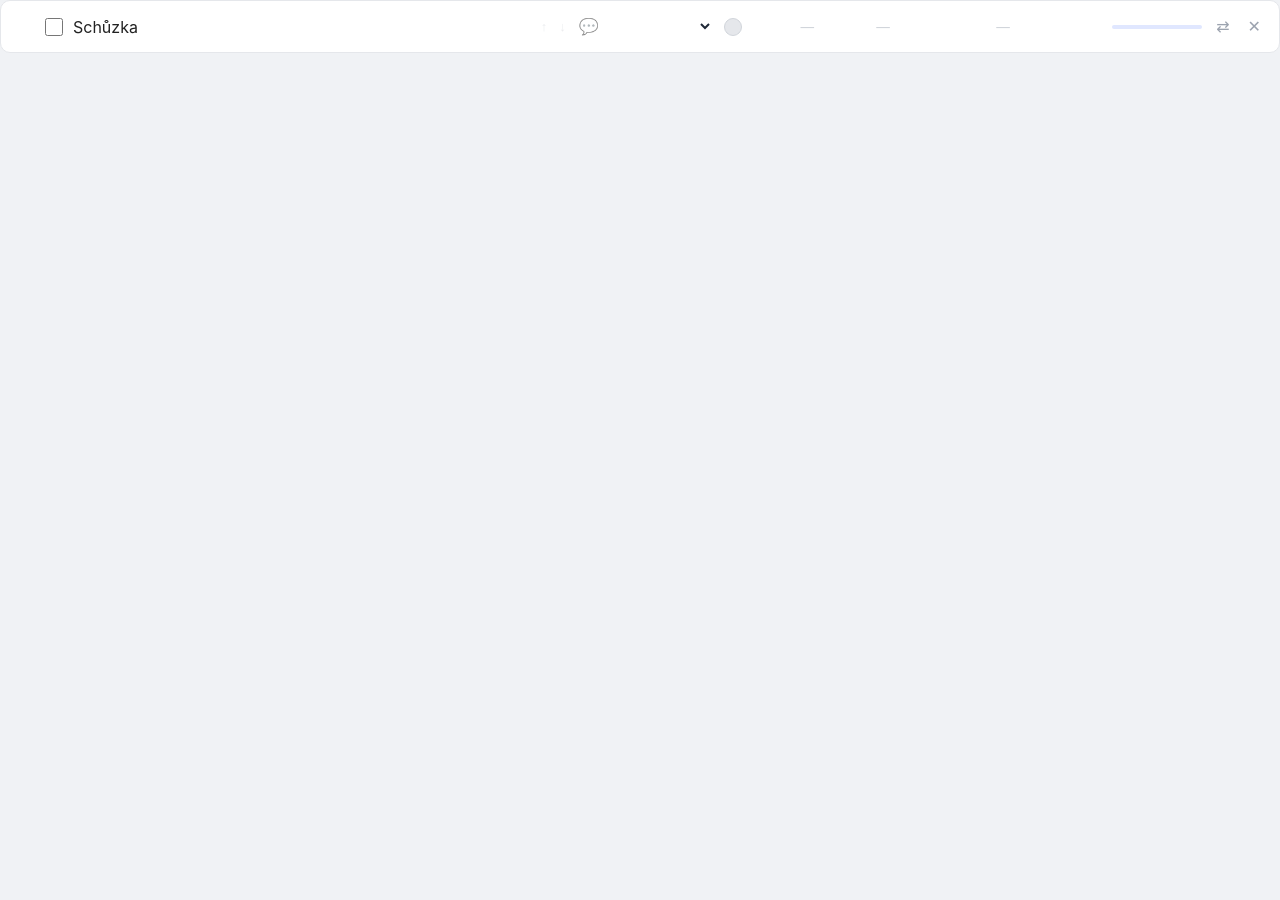
Test: TodoItem › Calendar event › opens a calendar modal after a non-empty date is set
Step 1. Click the element with class "due-badge--empty" → (1157, 26), box [1112,24,1202,28]
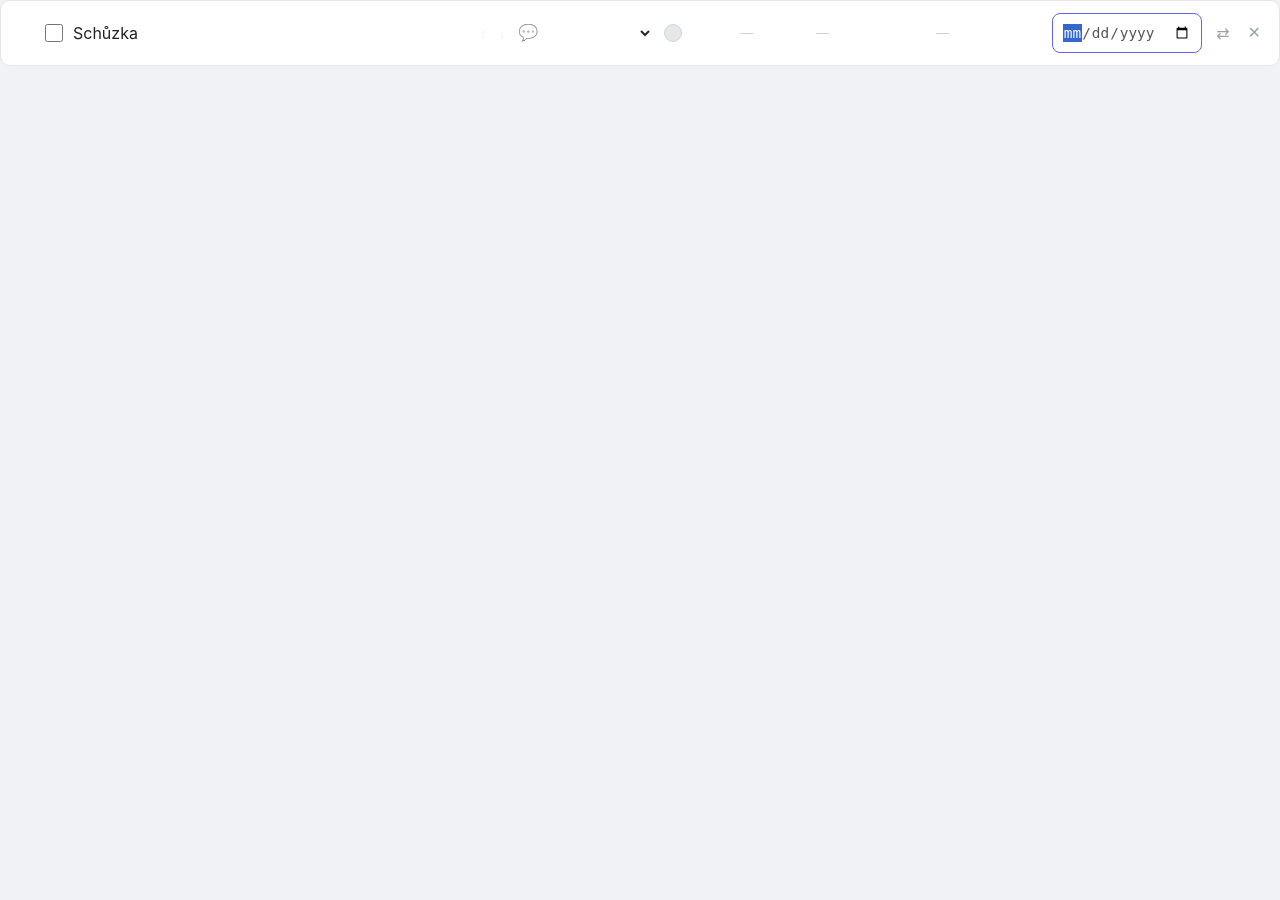
Step 2. Type "2026-06-01" into the date field → (1127, 33), box [1052,13,1202,53]
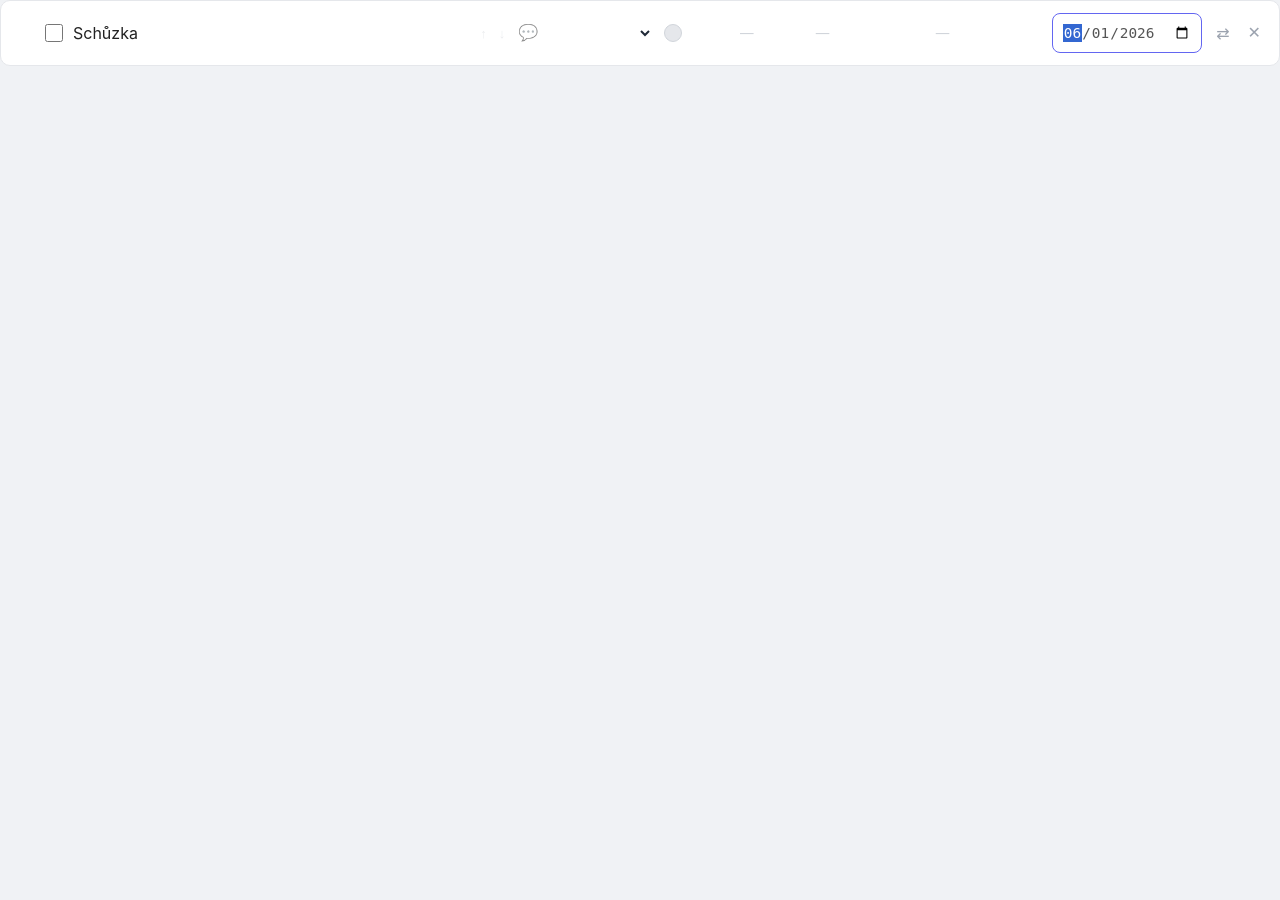
Step 3. Leave the date field, box [1052,13,1202,53]
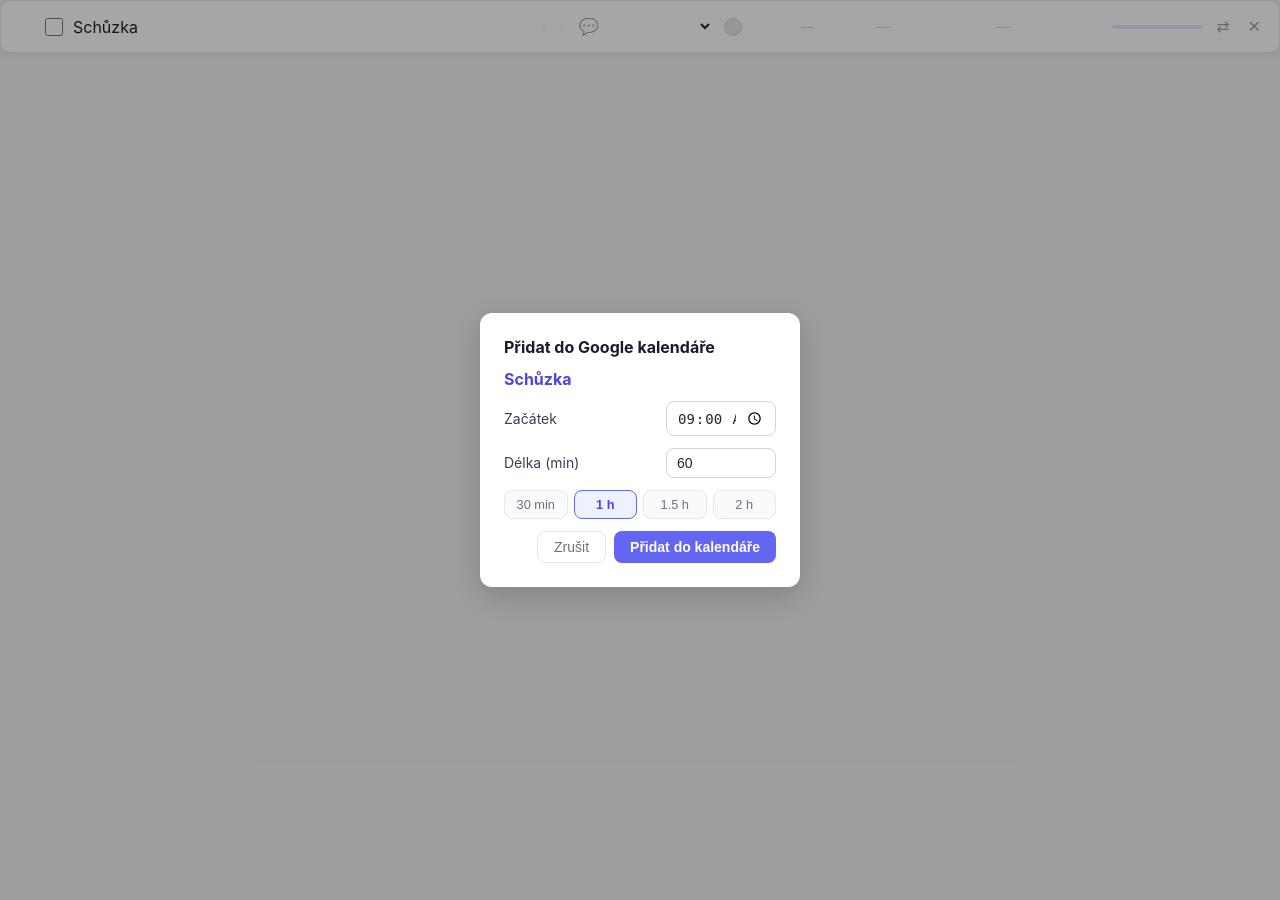
Check: the button "Přidat do kalendáře" is shown, box [614,531,776,563]
